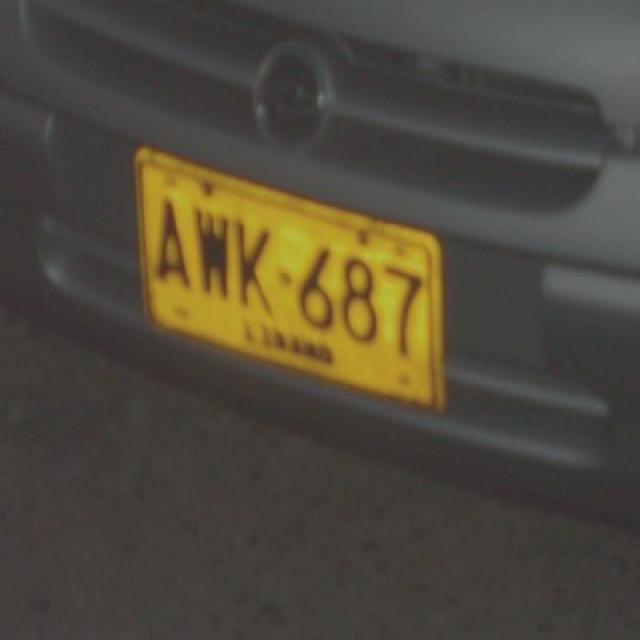placa_carro: (100, 109, 483, 455)
